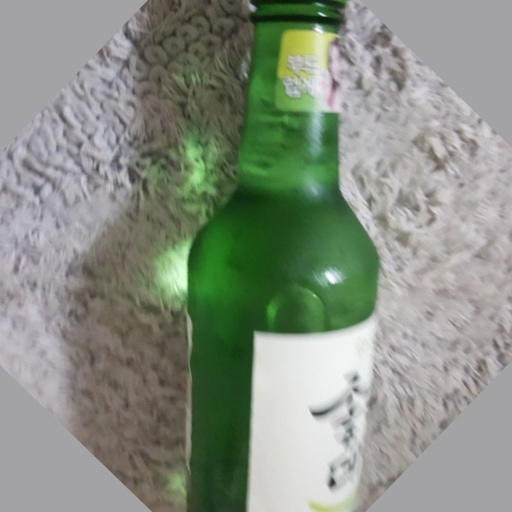Glass_0: (177, 1, 387, 512)
